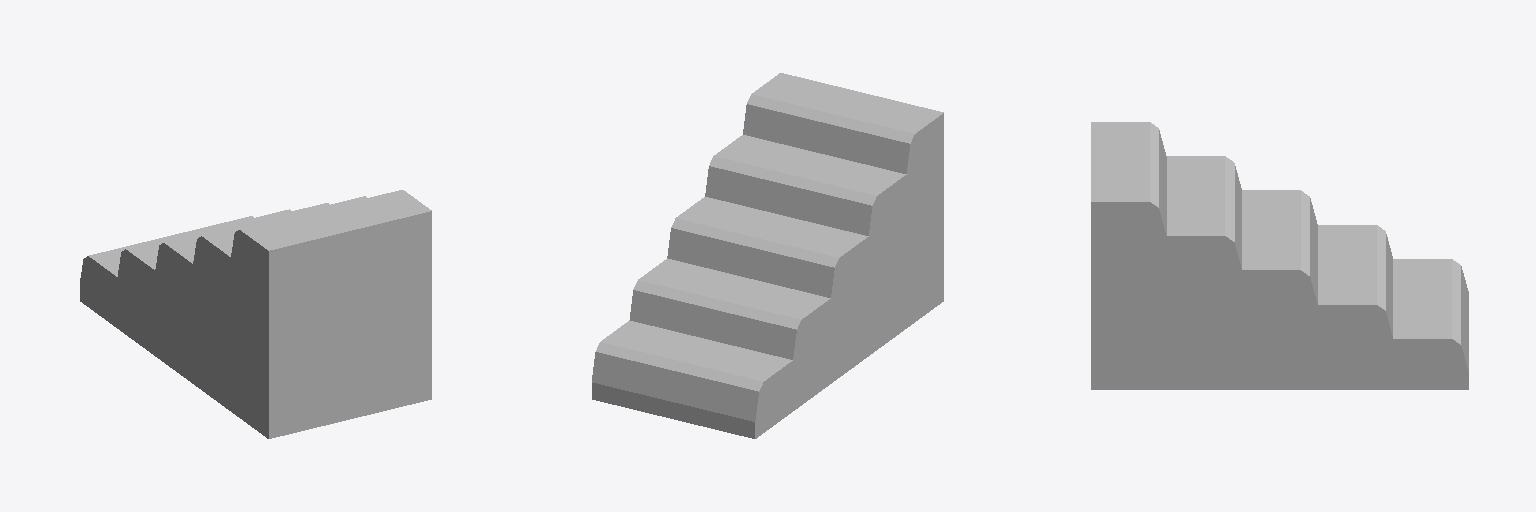
Rendered from Path_Steps_Center.obj.
The picture shows the model from 3 angles: view 1: azimuth 30°, elevation 25°; view 2: azimuth 150°, elevation 25°; view 3: azimuth 270°, elevation 25°; orthographic projection.
Parts seen in each view (by area): view 1: object1; view 2: object1; view 3: object1.
Part boxes in pixels (x1,y1,x2,y2): object1: (80, 190, 431, 438); object1: (592, 73, 943, 438); object1: (1091, 122, 1468, 389).
Size of the model in its own units: 1 by 1.1 by 2.